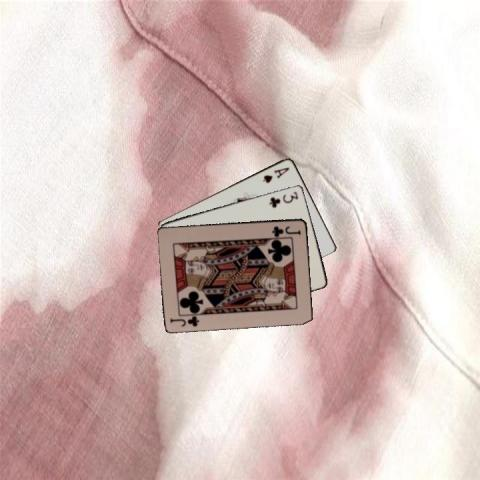3c: (267, 188, 299, 208)
As: (259, 164, 291, 184)
Jc: (167, 313, 201, 328), (269, 222, 302, 236)
